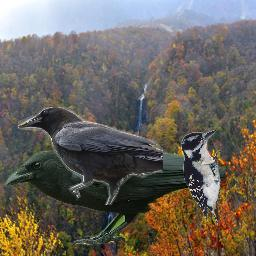Crow: (4, 143, 227, 247), (18, 107, 163, 205)
Woodpecker: (181, 130, 223, 227)
